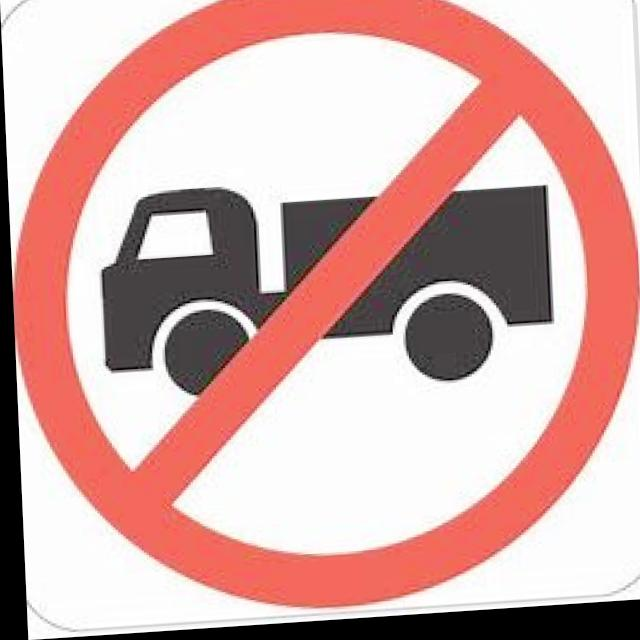TRUCK_PROHIBITED: (0, 0, 640, 630)
